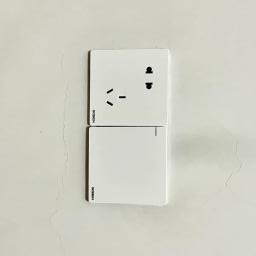outlet: (87, 42, 171, 127)
